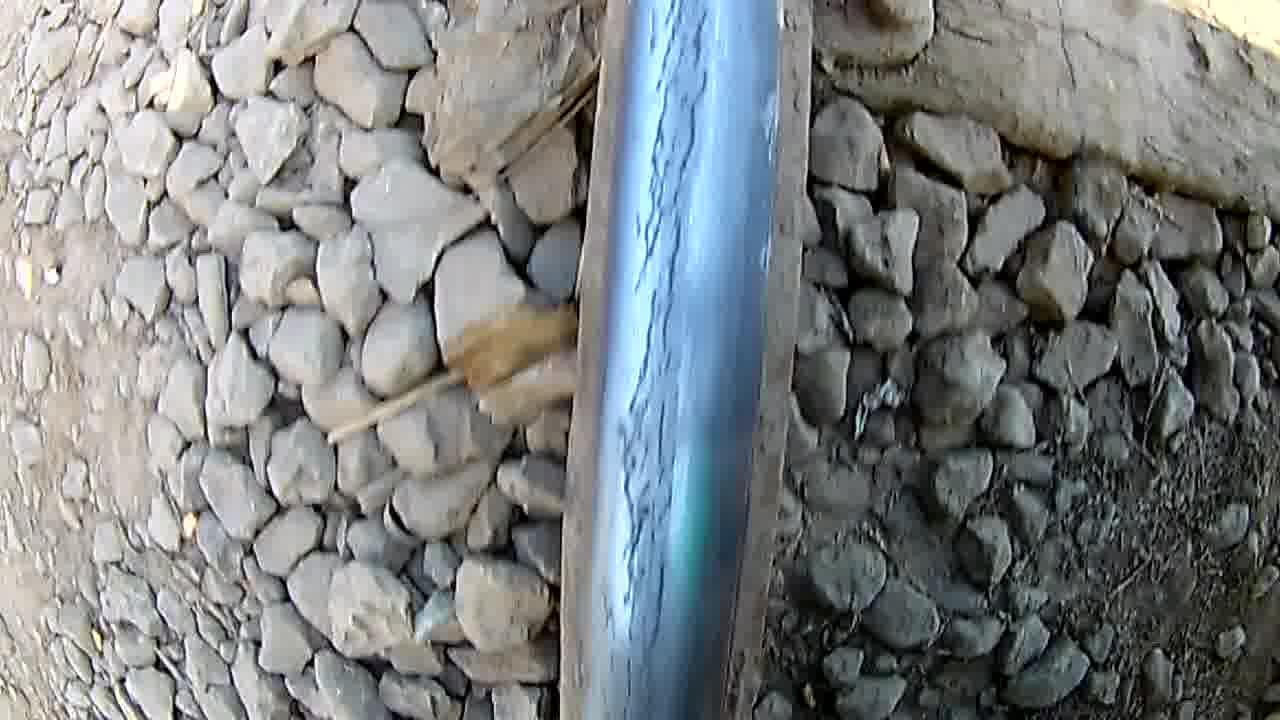normal_track: (612, 4, 709, 716)
